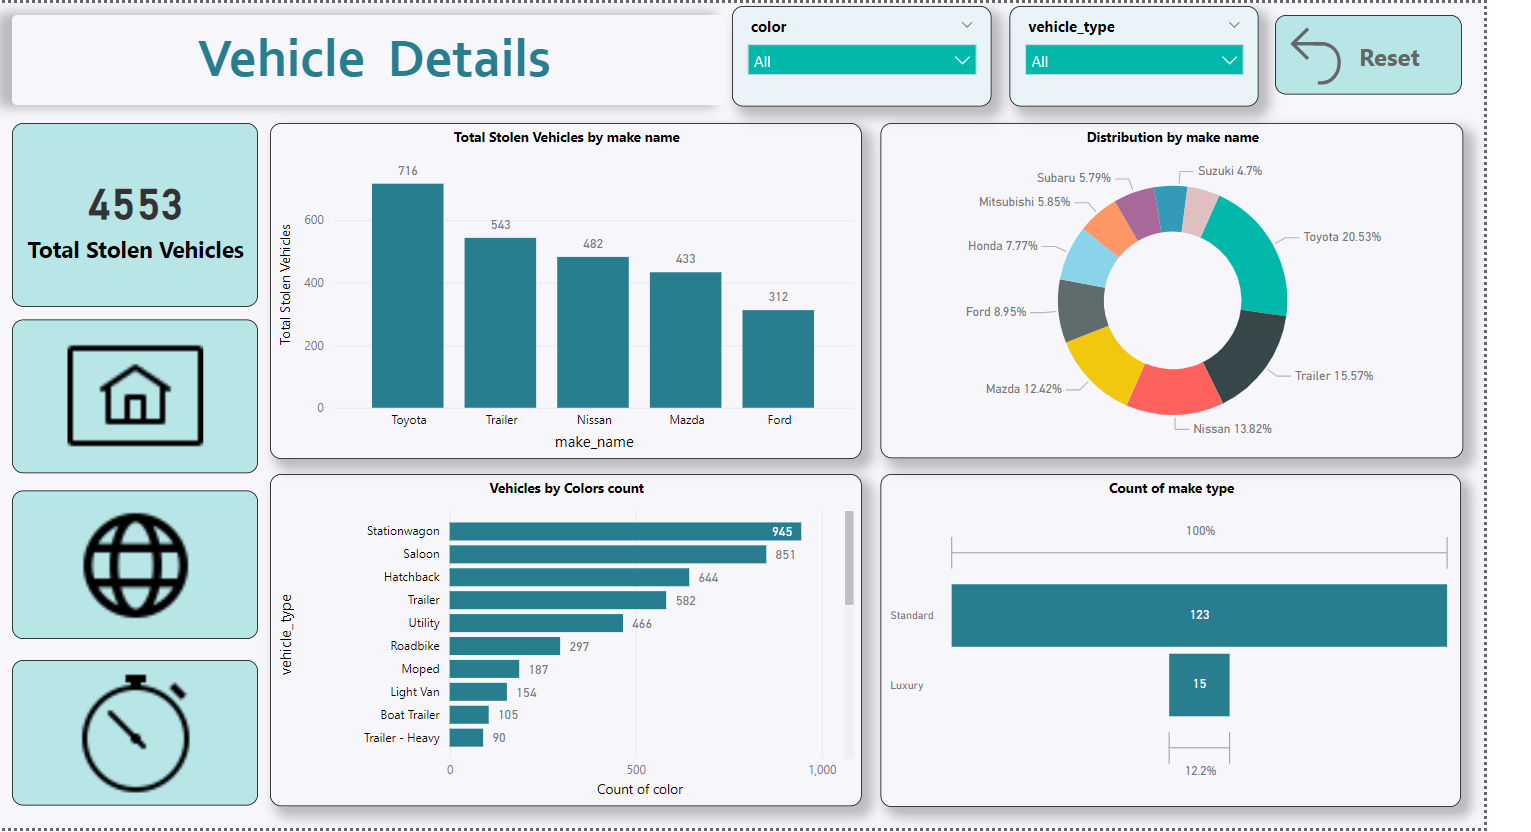

What the dashboard file says about the page in this screenshot:
{"tool":"powerbi","page":{"name":"vehicles_dash","canvas":[1319,733],"ordinal":15},"visuals":[{"type":"donutChart","title":" Distribution by make name","fields":{"Y":["Measures_Table.Make Distribution"],"Category":["make_details.make_name"]},"box":[782,106,518,298],"z":0},{"type":"clusteredBarChart","title":"Vehicles by Colors count","fields":{"Category":["stolen_vehicles.vehicle_type"],"Y":["CountNonNull(stolen_vehicles.color)"]},"box":[240,418.5,526.2,295.4],"z":1000},{"type":"clusteredColumnChart","title":"Total Stolen Vehicles by make name","fields":{"Category":["make_details.make_name"],"Y":["Measures_Table.Total Stolen Vehicles"]},"box":[240,106.2,526.2,298.5],"z":2000},{"type":"slicer","fields":{"Values":["stolen_vehicles.vehicle_type"]},"box":[896.9,3.1,221.5,89.2],"z":3000},{"type":"slicer","fields":{"Values":["stolen_vehicles.color"]},"box":[650.8,3.1,230.8,89.2],"z":4000},{"type":"textbox","box":[10.8,10.8,633.8,80],"z":5000},{"type":"funnel","title":"Count of make type ","fields":{"Category":["make_details.make_type"],"Y":["CountNonNull(make_details.make_type)"]},"box":[782,418,516,296],"z":6000},{"type":"image","title":"location","box":[10.8,433.8,218.5,132.3],"z":7000},{"type":"image","title":"time","box":[10.8,584.6,218.5,129.2],"z":8000},{"type":"image","title":"home","box":[10.8,281.5,218.5,136.9],"z":9000},{"type":"card","fields":{"Values":["Measures_Table.Total Stolen Vehicles"]},"box":[10.8,106.2,218.5,163.1],"z":10000},{"type":"actionButton","title":"reset","box":[1133.8,10.8,166.2,70.8],"z":11000}]}

Visuals, with their boxes in screenshot pixels (x1, y1, x2, y2), scaled from the page's 1319x733 canvas onto the 1531x832 screenshot:
" Distribution by make name" donutChart: pyautogui.locateOnScreen(908, 120, 1509, 459)
"Vehicles by Colors count" clusteredBarChart: pyautogui.locateOnScreen(279, 475, 889, 810)
"Total Stolen Vehicles by make name" clusteredColumnChart: pyautogui.locateOnScreen(279, 121, 889, 459)
slicer - stolen_vehicles.vehicle_type: pyautogui.locateOnScreen(1041, 4, 1298, 105)
slicer - stolen_vehicles.color: pyautogui.locateOnScreen(755, 4, 1023, 105)
textbox: pyautogui.locateOnScreen(13, 12, 748, 103)
"Count of make type " funnel: pyautogui.locateOnScreen(908, 474, 1507, 810)
"location" image: pyautogui.locateOnScreen(13, 492, 266, 643)
"time" image: pyautogui.locateOnScreen(13, 664, 266, 810)
"home" image: pyautogui.locateOnScreen(13, 320, 266, 475)
card - Measures_Table.Total Stolen Vehicles: pyautogui.locateOnScreen(13, 121, 266, 306)
"reset" actionButton: pyautogui.locateOnScreen(1316, 12, 1509, 93)
